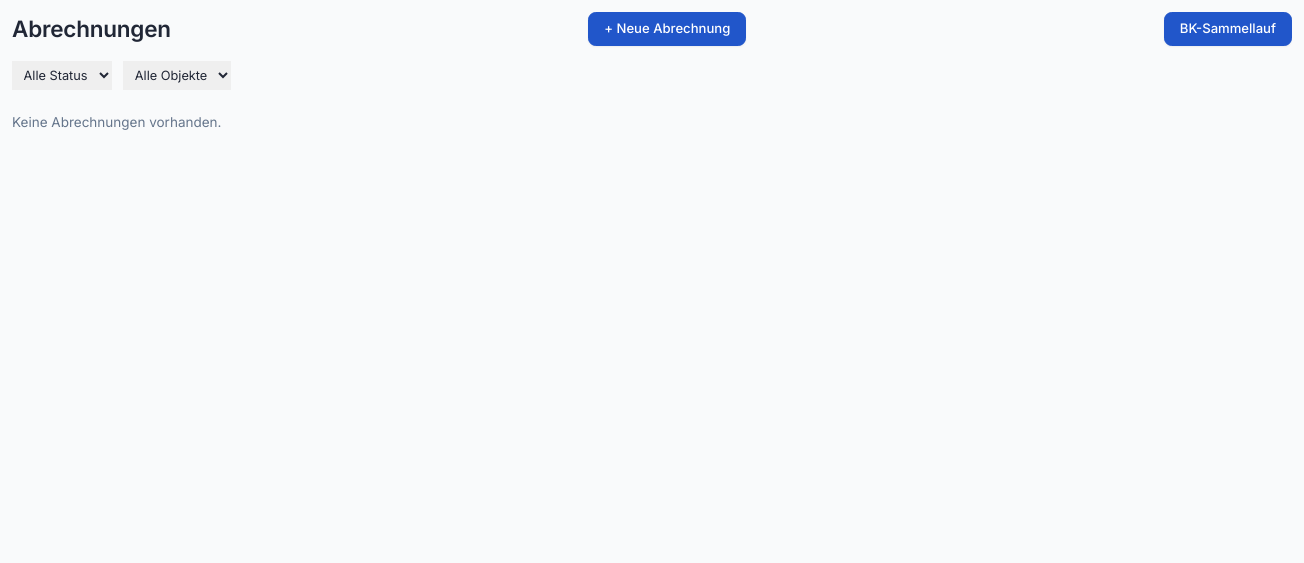
Test: does not post missing or reversed end date
Click the button "BK-Sammellauf" at {"x": 1228, "y": 29}, box 1164,12 -> 1292,46
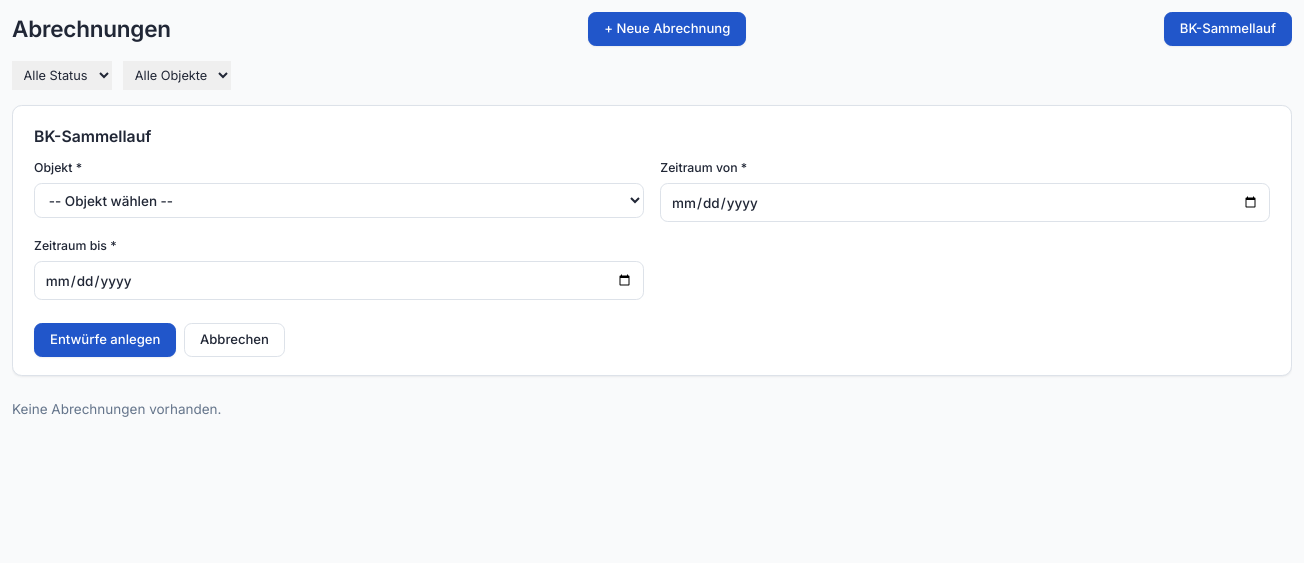
Select "Sonnenhof" in the dropdown labelled "Objekt *" at {"x": 339, "y": 201}, box 34,183 -> 644,218
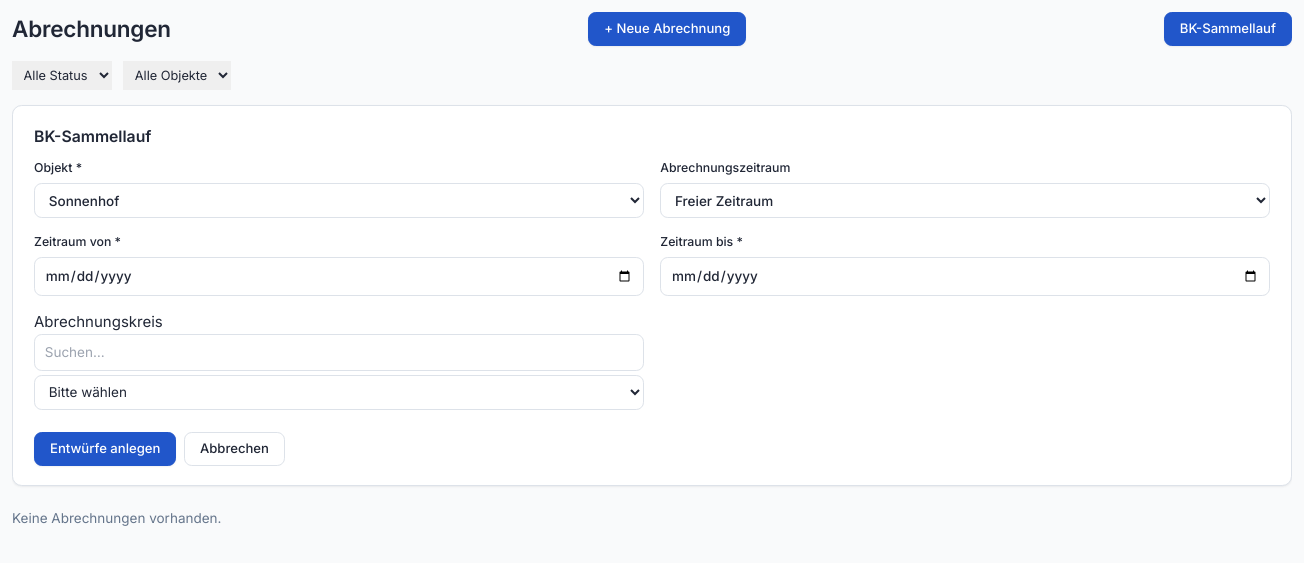
Type "2025-07-01" into the date field labelled "Zeitraum von *" at {"x": 339, "y": 276}, box 34,257 -> 644,296
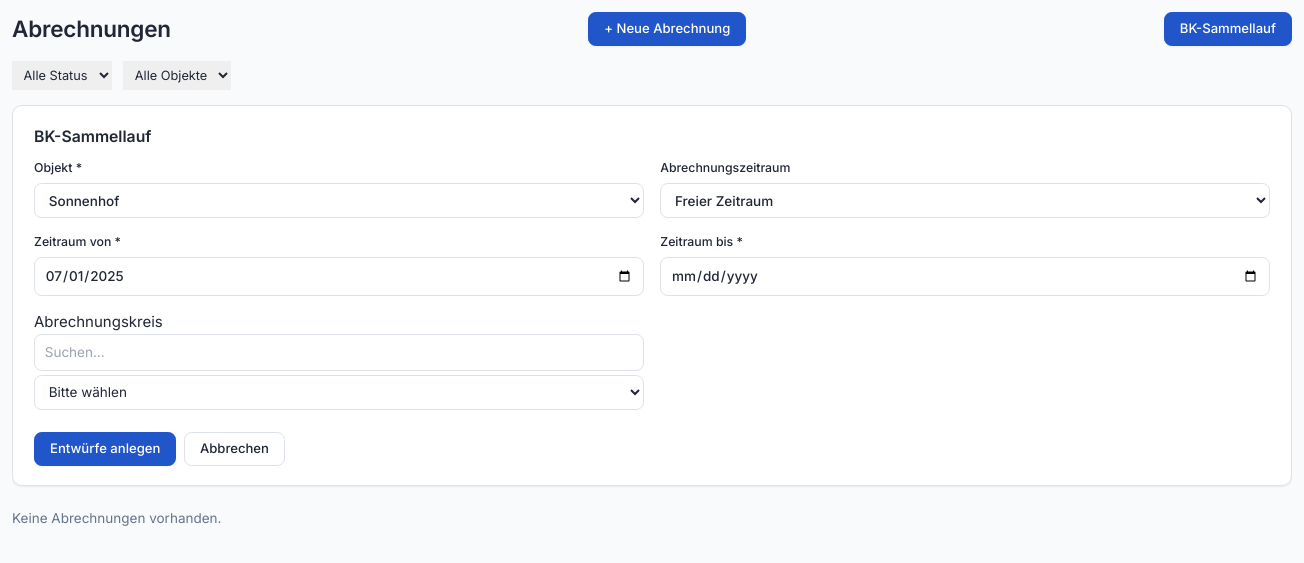
Type "2026-06-30" into the date field labelled "Zeitraum bis *" at {"x": 965, "y": 276}, box 660,257 -> 1270,296
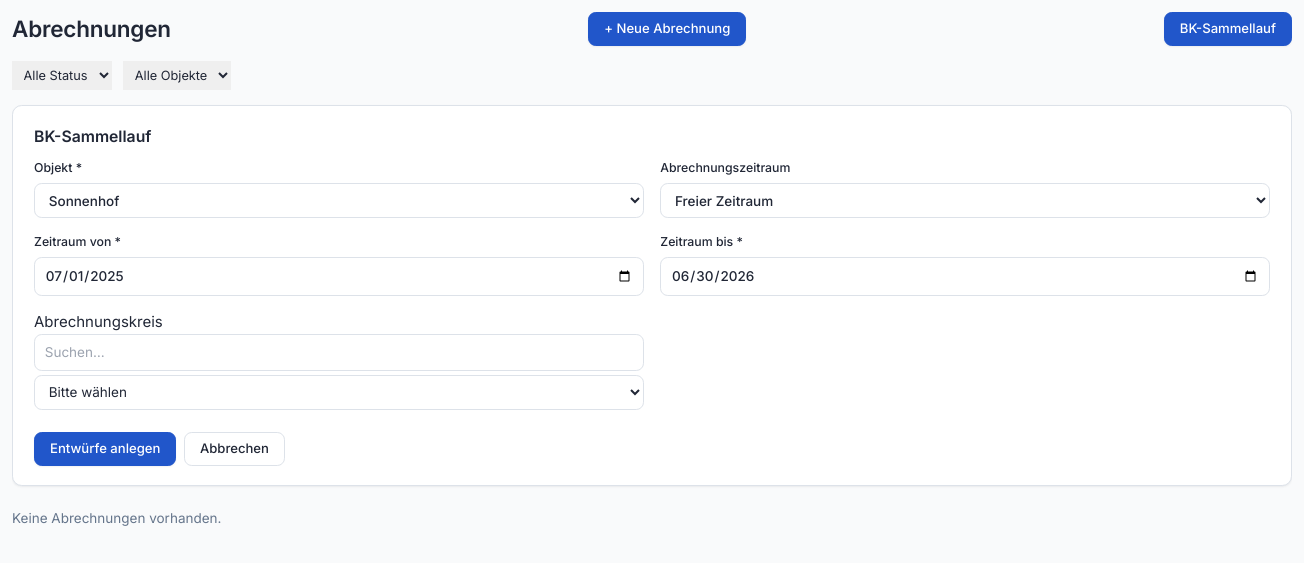
Clear the date field labelled "Zeitraum bis *" at {"x": 965, "y": 276}, box 660,257 -> 1270,296
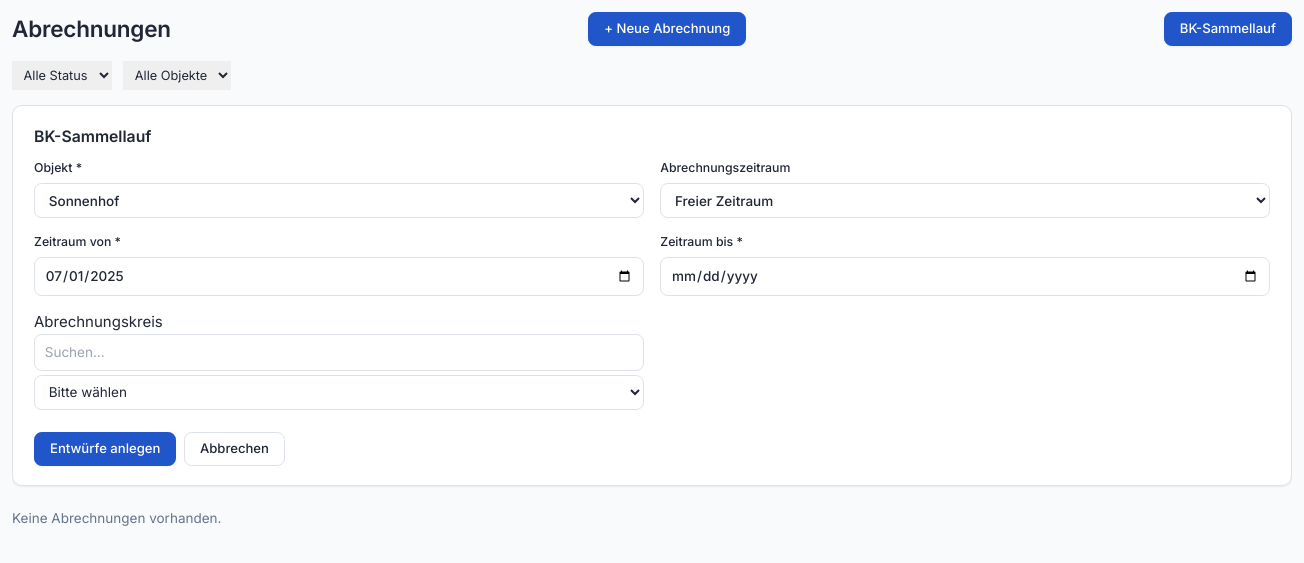
Click the button "Entwürfe anlegen" at {"x": 105, "y": 449}, box 34,432 -> 176,466
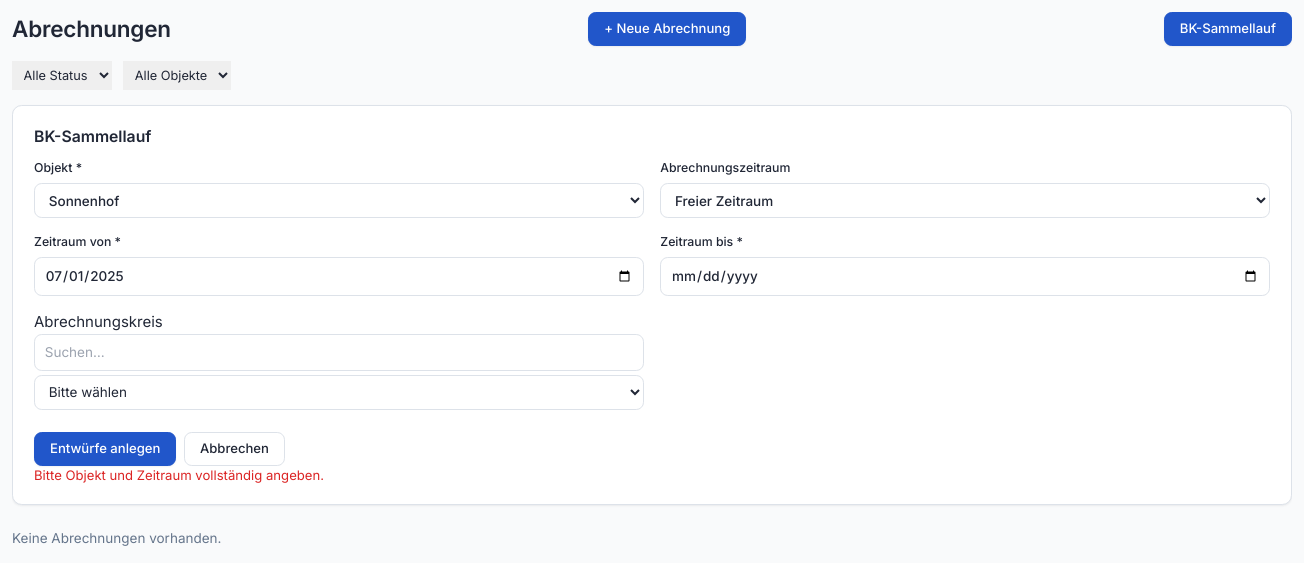
Expected: the message "Bitte Objekt und Zeitraum vollständig angeben." is shown, 34,467 -> 324,483
